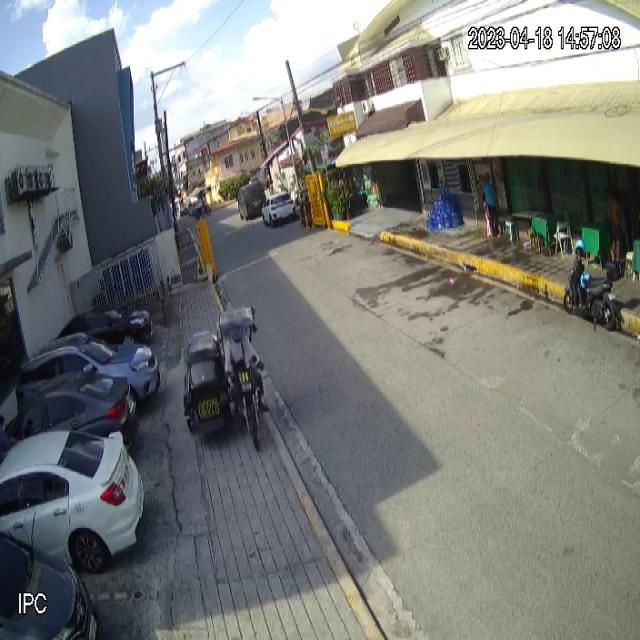Motorcycle: (564, 250, 626, 334)
Tricycle: (183, 305, 261, 452)
